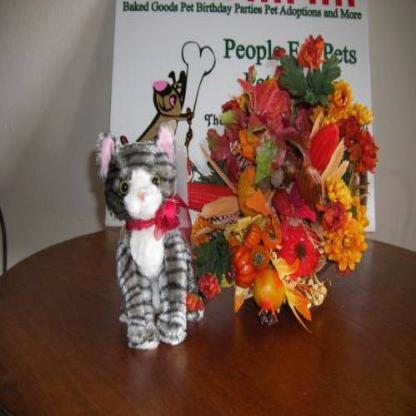cat: (85, 70, 219, 384)
